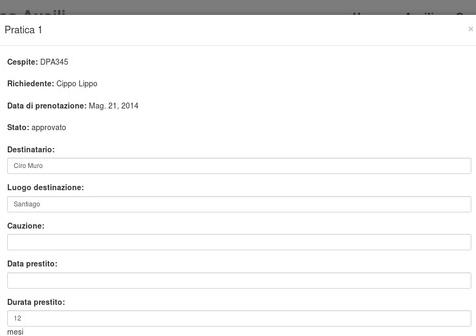field: (4, 231, 473, 253), (5, 307, 473, 329), (6, 270, 474, 291), (5, 156, 472, 176), (5, 194, 472, 214)
field_with_label: (4, 258, 476, 292), (2, 221, 475, 254), (3, 183, 475, 216), (3, 298, 475, 331), (3, 144, 474, 177)
